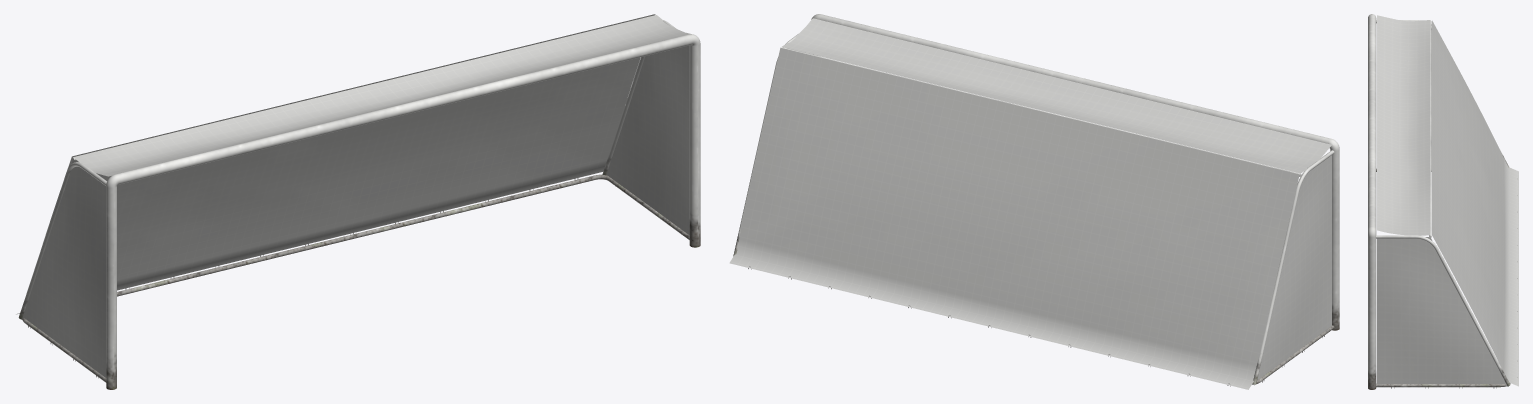
Rendered from football-goal-test.glb.
The picture shows the model from 3 angles, left to right: view 1: azimuth 30°, elevation 25°; view 2: azimuth 150°, elevation 25°; view 3: azimuth 270°, elevation 25°; orthographic projection. The views are drawn at different scales.
Visible parts, largest first — view 1: football-goal; view 2: football-goal; view 3: football-goal.
Part boxes in pixels (<box>): football-goal: <box>16,14,700,389</box>; football-goal: <box>729,14,1339,389</box>; football-goal: <box>1368,14,1518,389</box>.
Bounding box in the file's own units: 7.56 × 2.58 × 2.2.
2 materials, 2 textured.
